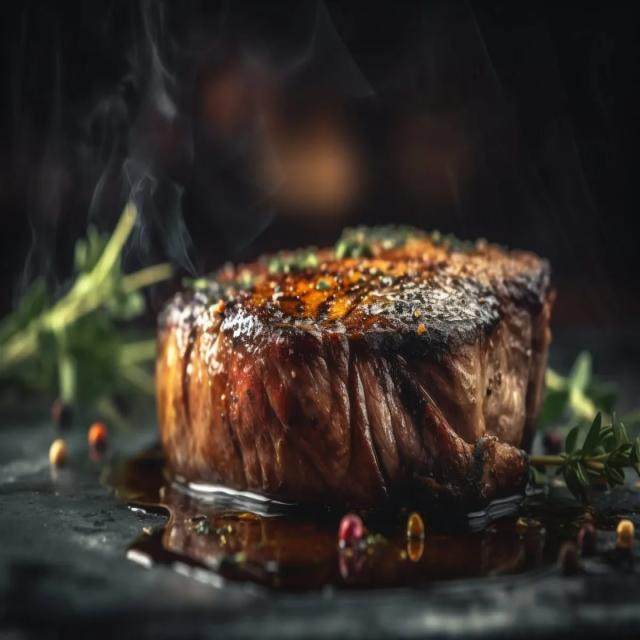Carne: (154, 223, 556, 513)
